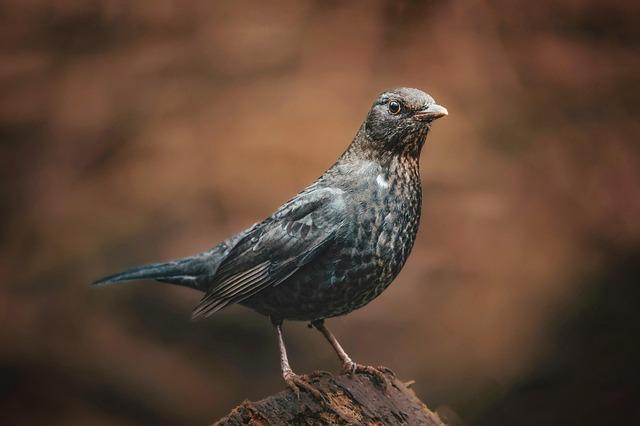Non_Gorille: (6, 0, 640, 426)
